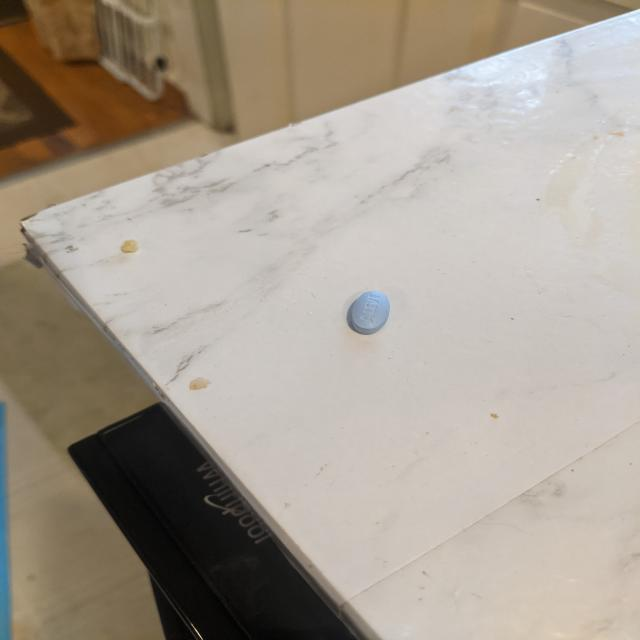non-organic waste: (350, 290, 391, 334)
